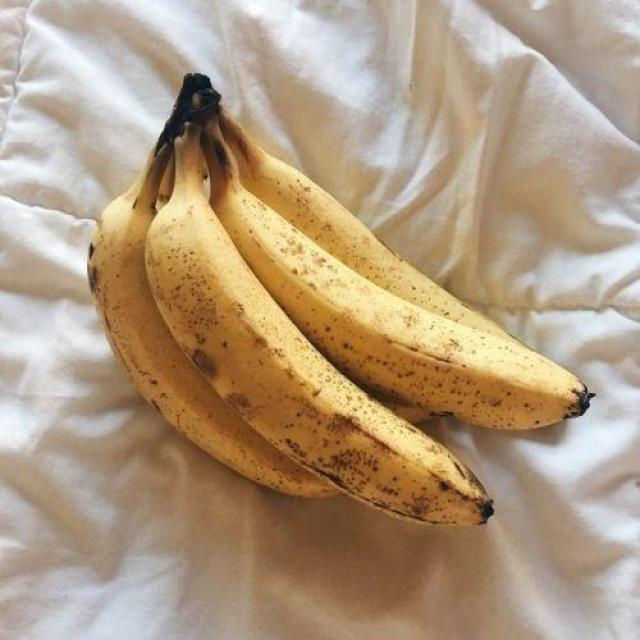banana: (87, 65, 599, 547)
